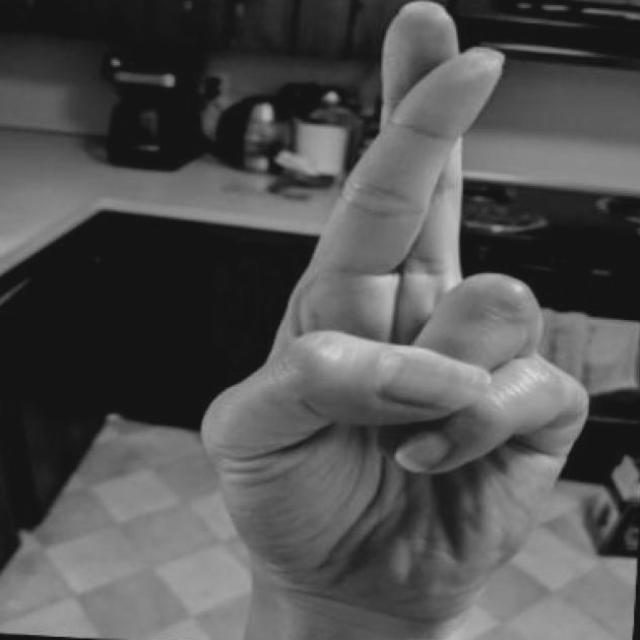R: (176, 0, 614, 640)
